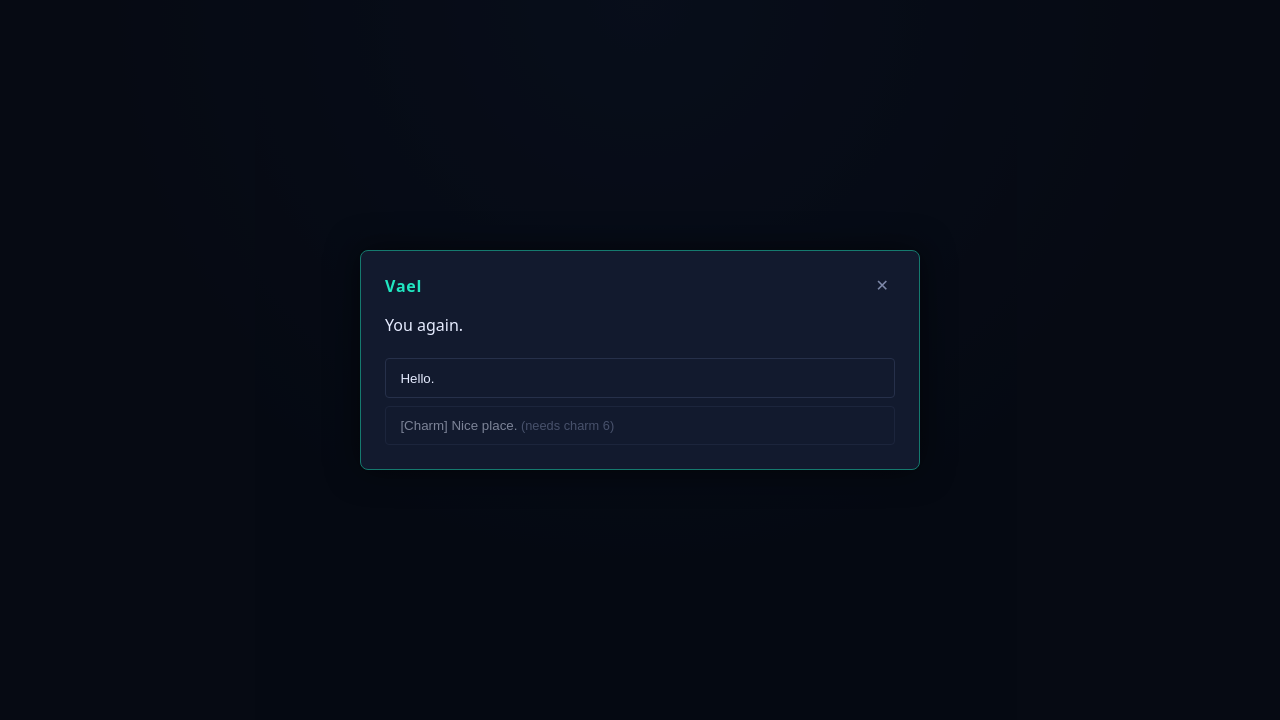
Scenario: DialogueScreen › advances to the next node on an available choice
The width and height of the screenshot is (1280, 720).
Click the button "Hello." at x=417, y=378, box [385,358,895,398]
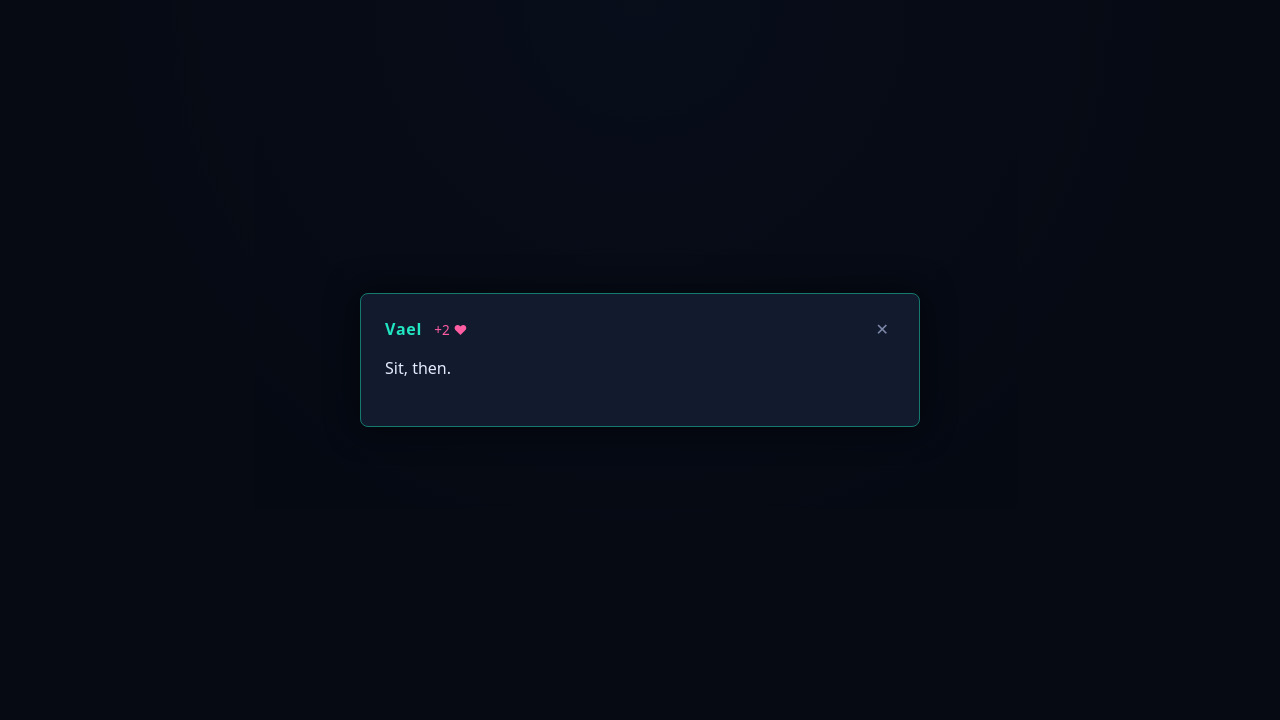
Result: the text "Sit, then." is shown at [385,357,451,379]
Result: the text "+2 ♥" is shown at [434,320,467,339]
